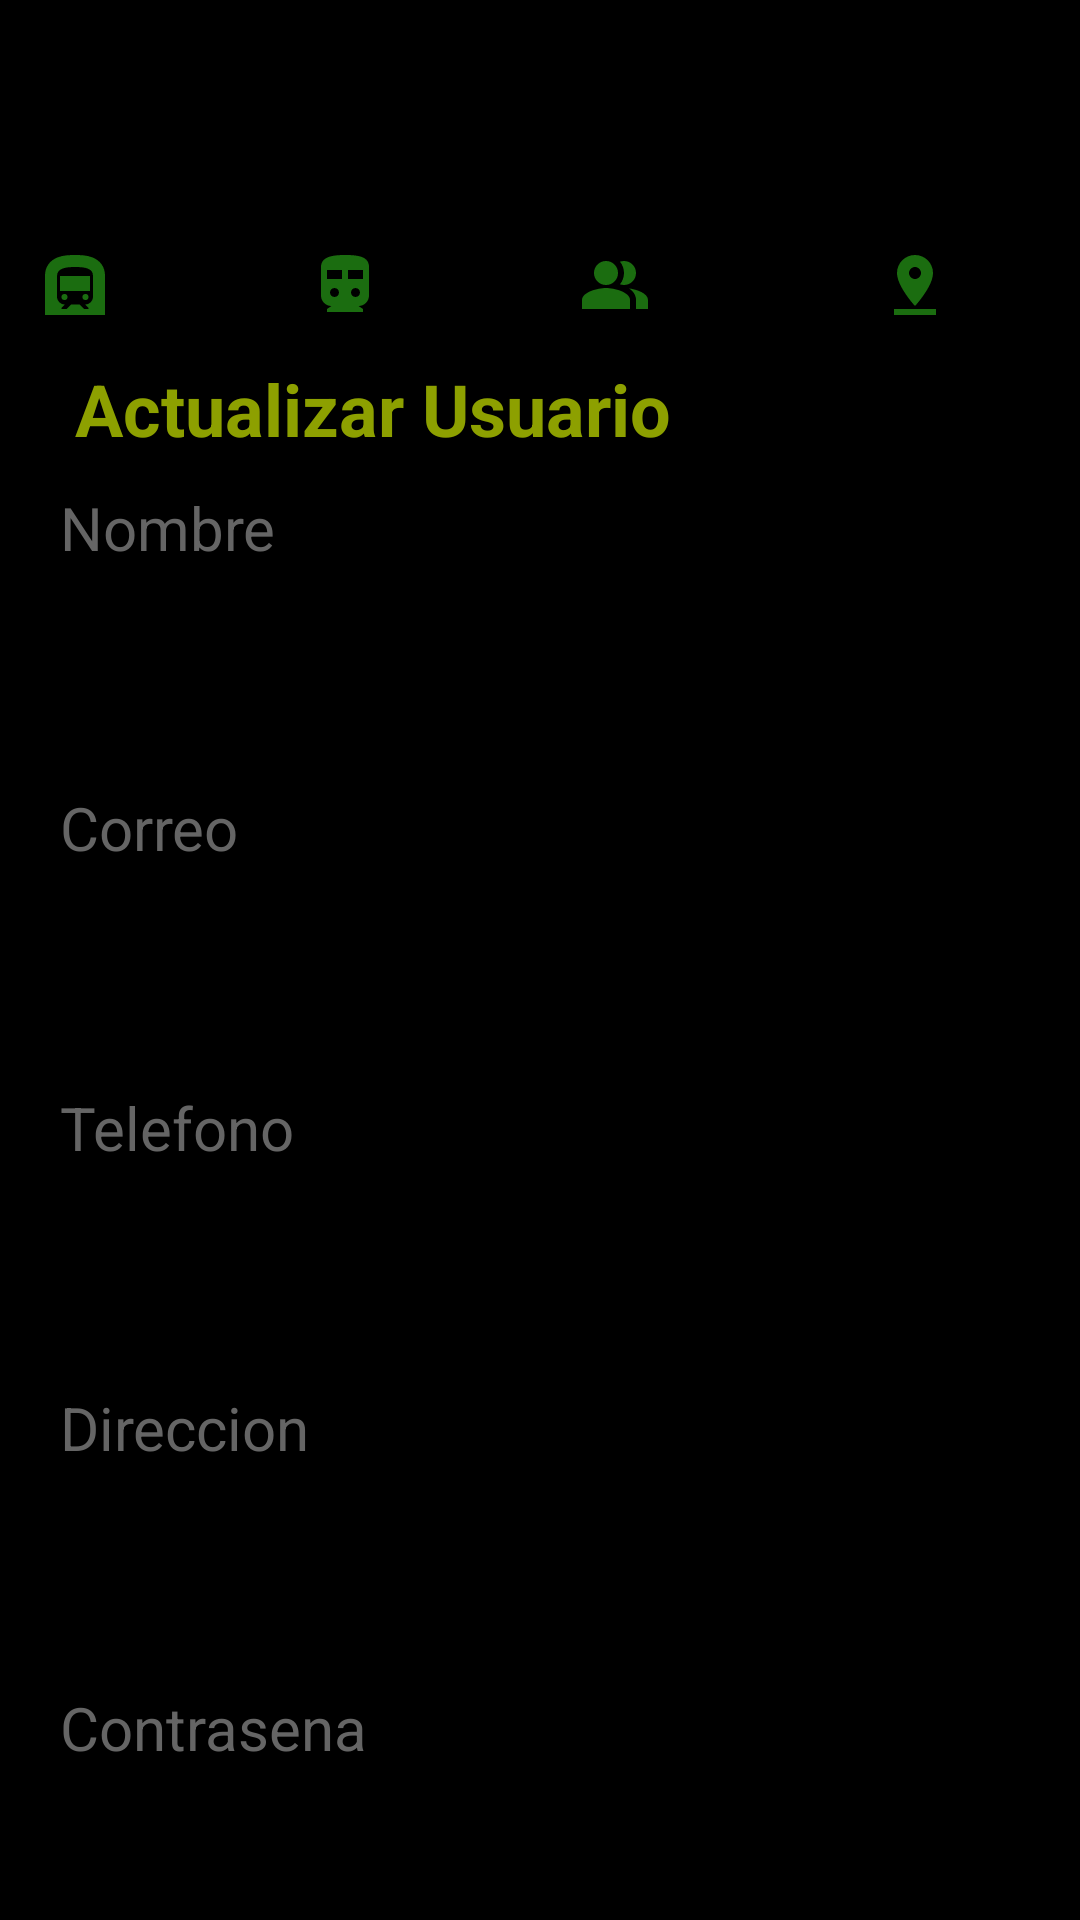

Screen size 1080px x 1920px. Icon name, then its center in pixels as [x,y]:
puntoicono: [915,285]
usericono: [615,285]
